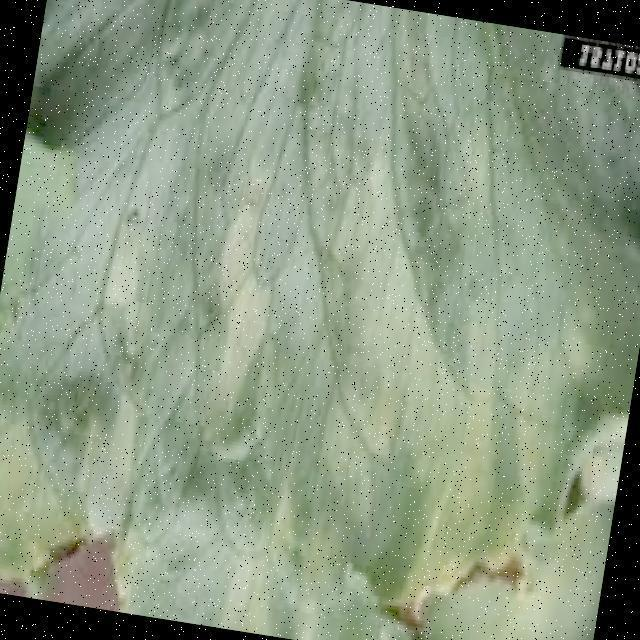Downy_Mildew: (44, 7, 540, 586)
